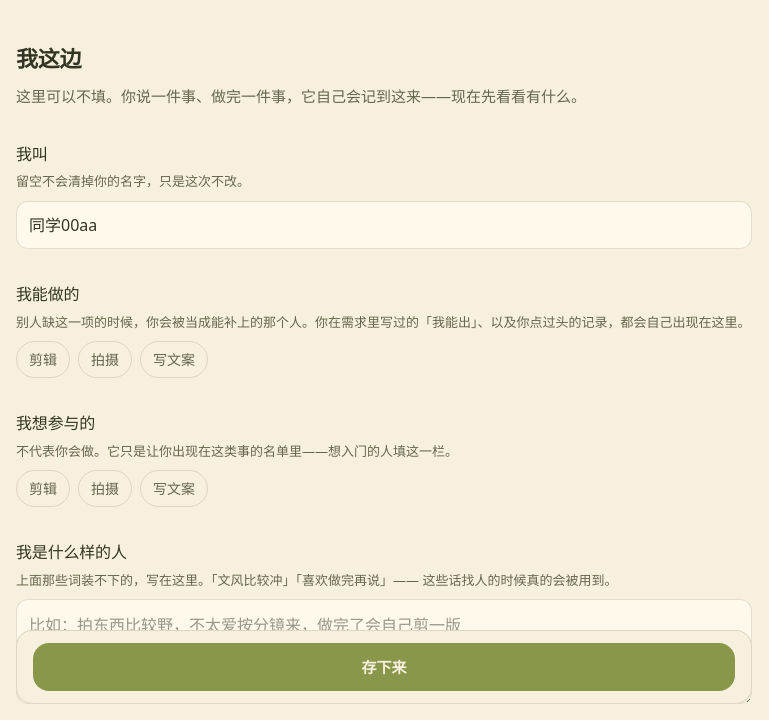
Test: 没认出来的词会被说出来，不是悄悄丢掉
This screenshot has width=769, height=720.
Expected: the element "我能做的" is shown, left=16, top=281, right=752, bottom=378
Click the button "存下来" at (384, 667), box left=33, top=643, right=735, bottom=691
(page scrolled)
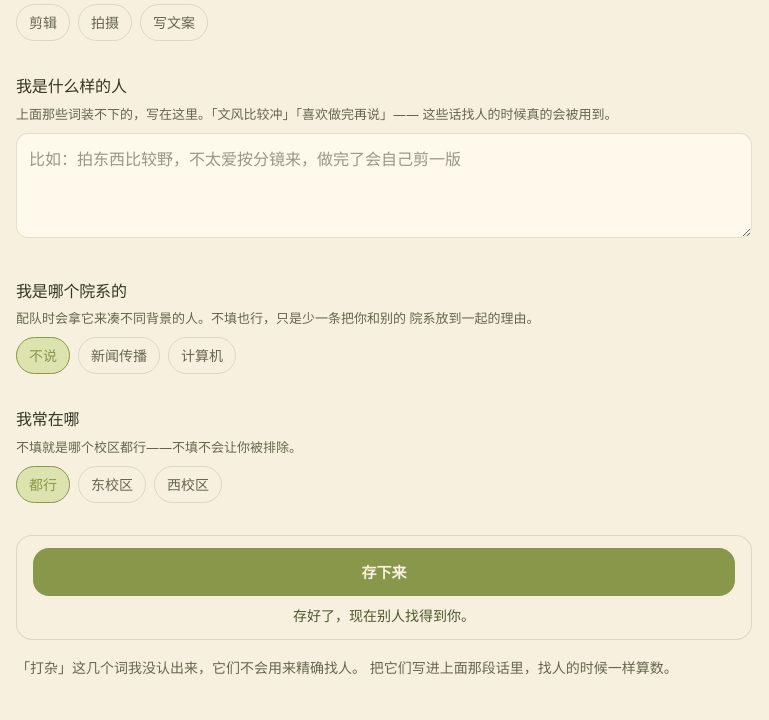
Expected: the message shows "打杂", left=30, top=658, right=58, bottom=677
